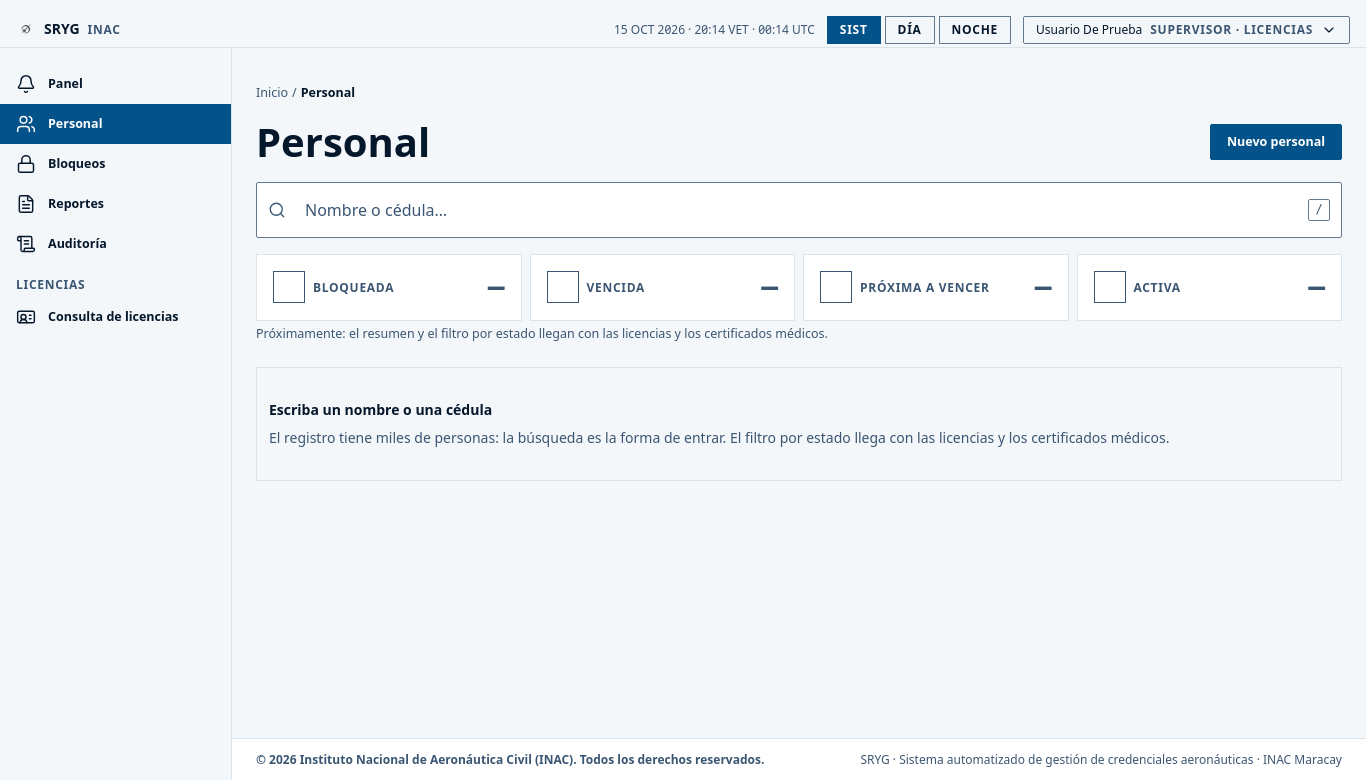
Listado de personal on the API › orders the columns by role and pages the results on the server
Type "prueba" into the search field named "Buscar por nombre o cédula".
click(799, 210); type("prueba")  # box top-left (256, 182), bottom-right (1342, 238)
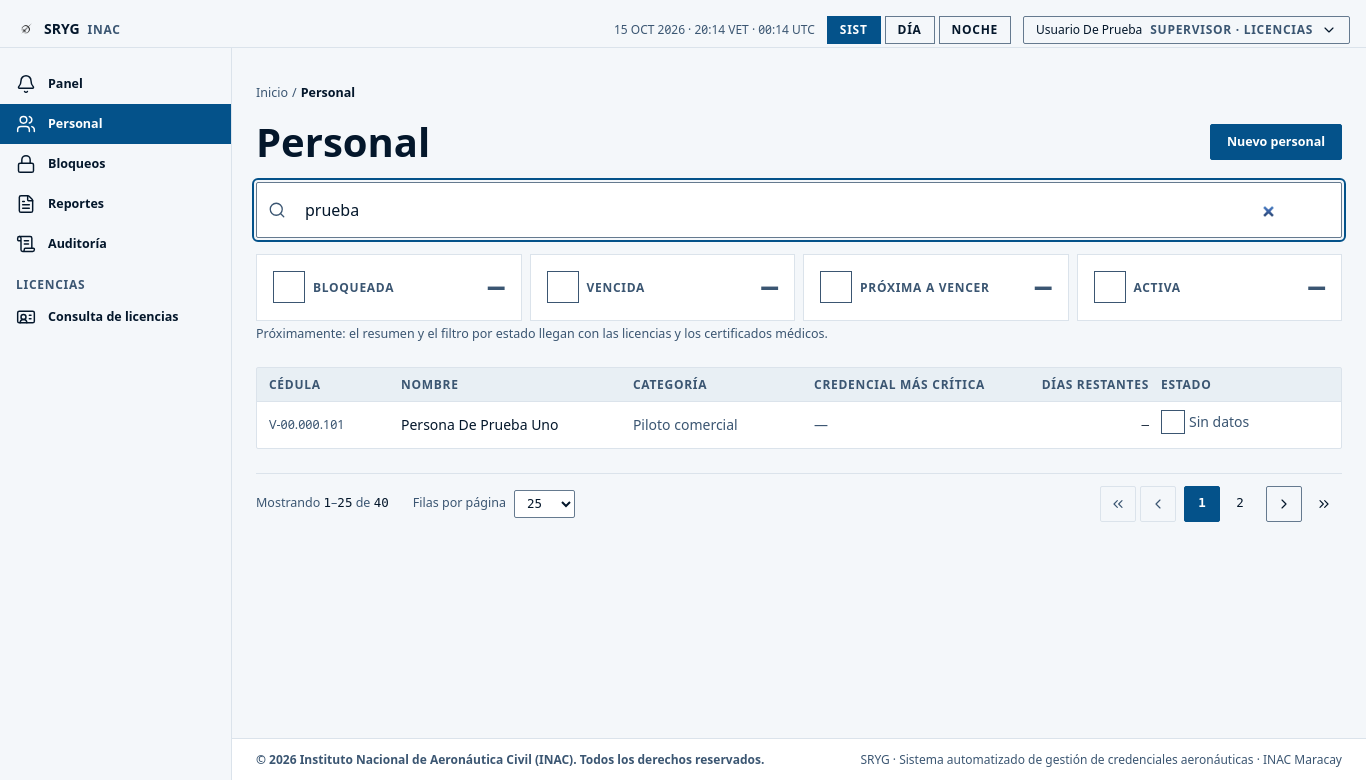
Now the link "Persona De Prueba Uno" is shown, box top-left (269, 410), bottom-right (1249, 434)
Now the navigation bar named "Paginación" shows "Mostrando 1–25 de 40", box top-left (256, 486), bottom-right (1342, 522)
Click the button named "Página 2".
click(1240, 504)  # box top-left (1222, 486), bottom-right (1258, 522)
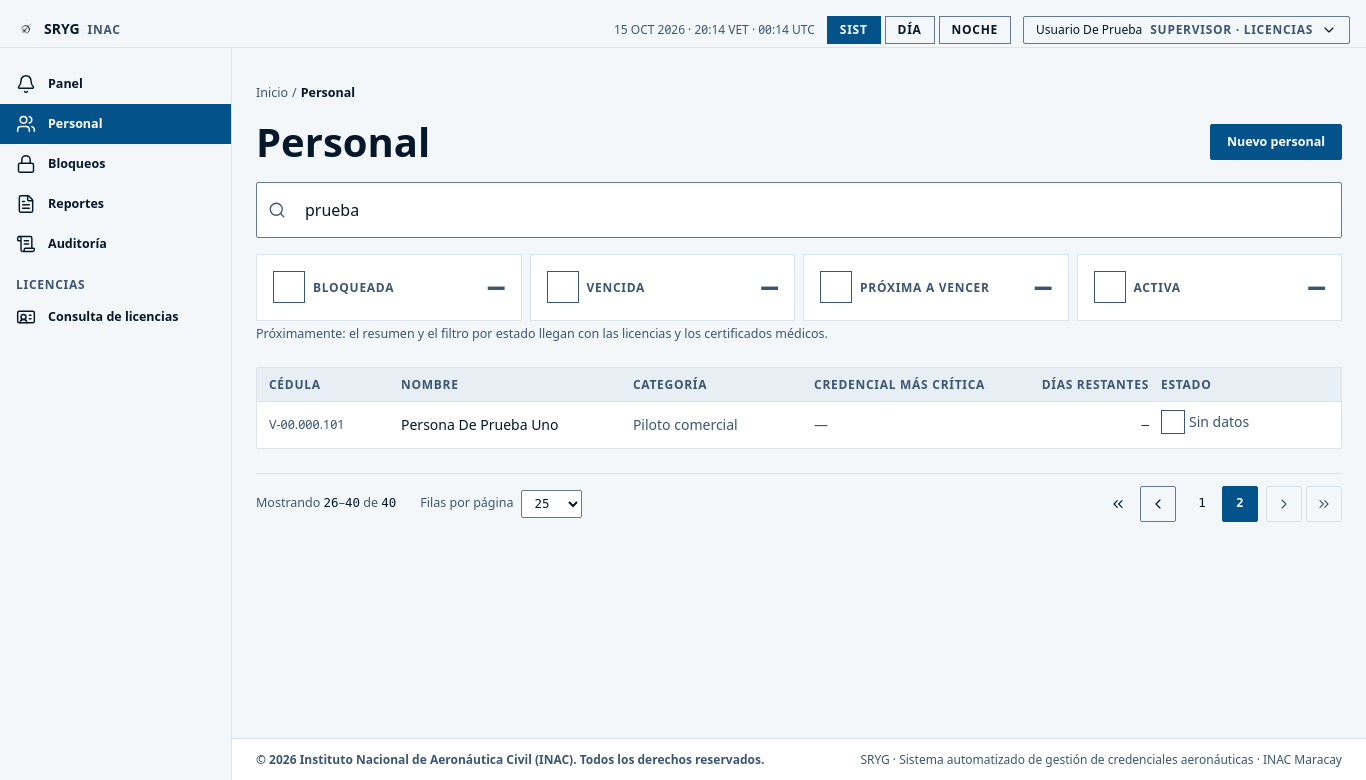
Now the navigation bar named "Paginación" shows "Mostrando 26–40 de 40", box top-left (256, 486), bottom-right (1342, 522)
Select "10" in the dropdown labelled "Filas por página" at (552, 504), box top-left (522, 490), bottom-right (582, 518)
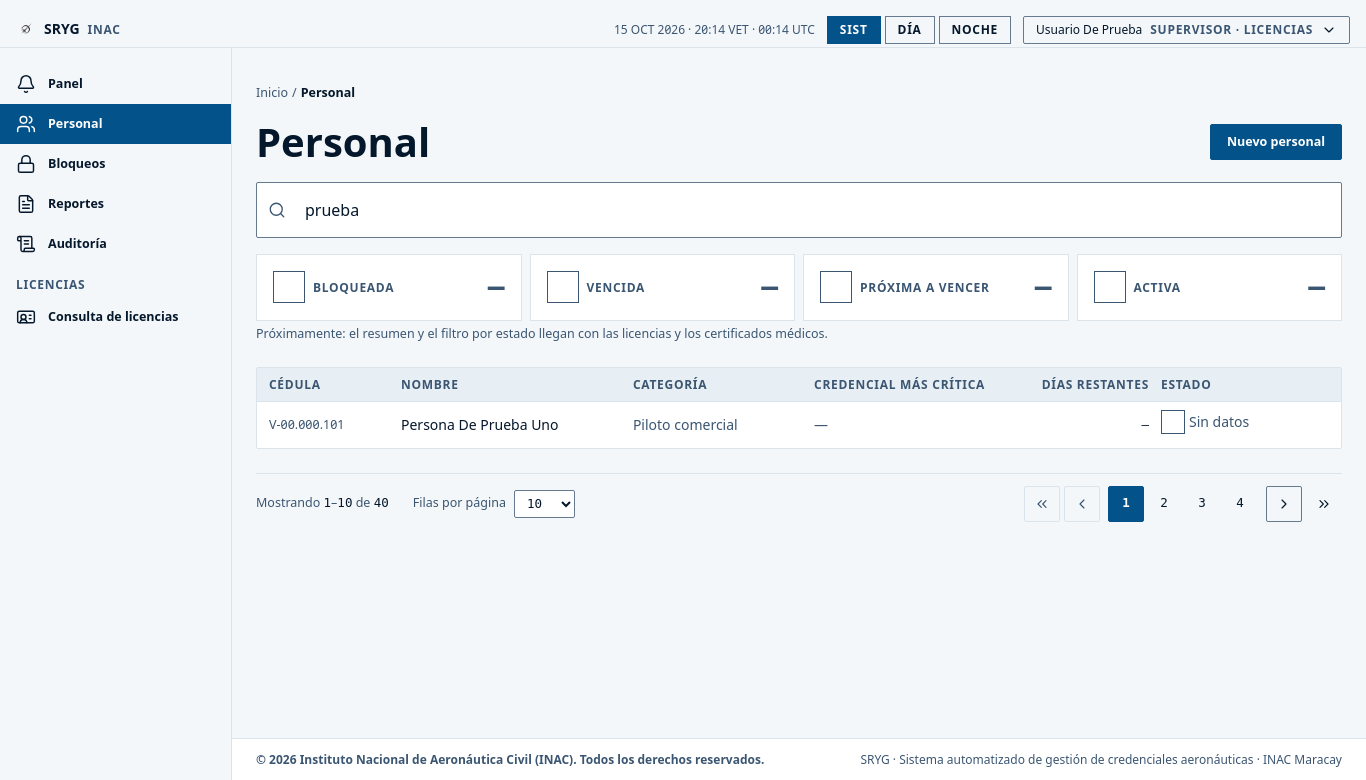
Now the navigation bar named "Paginación" shows "Mostrando 1–10 de 40", box top-left (256, 486), bottom-right (1342, 522)
